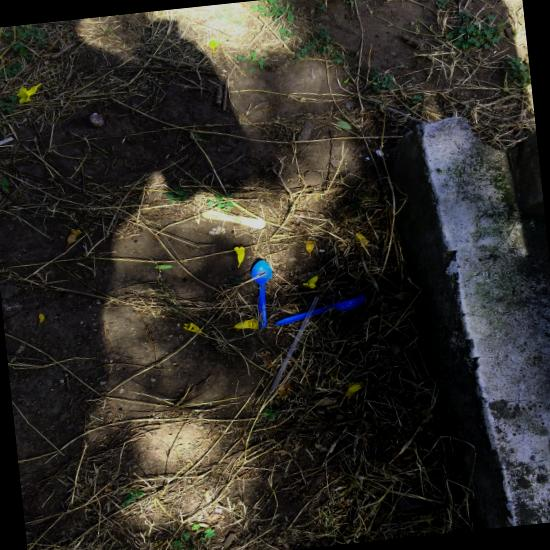Plastic straw: (269, 297, 320, 392)
Plastic utensils: (275, 295, 366, 326), (251, 260, 272, 328)
Unlabeled litter: (202, 209, 266, 229)
